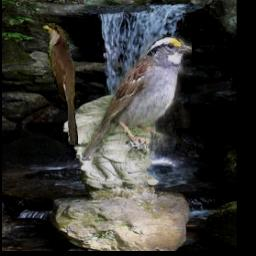Cuckoo: (43, 24, 79, 146)
Sparrow: (82, 36, 192, 162)
